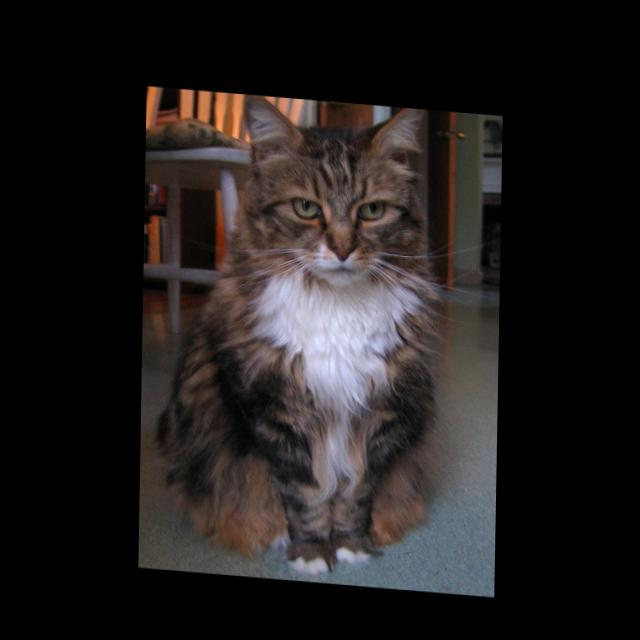animals: (248, 90, 422, 259)
